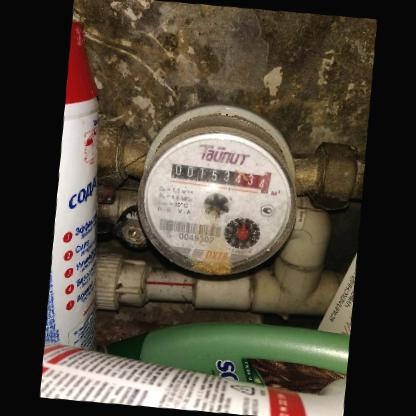digital_screen: (166, 158, 231, 190)
